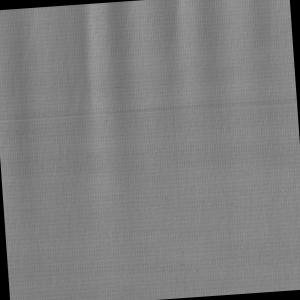Wrinkle: (4, 1, 300, 194)
